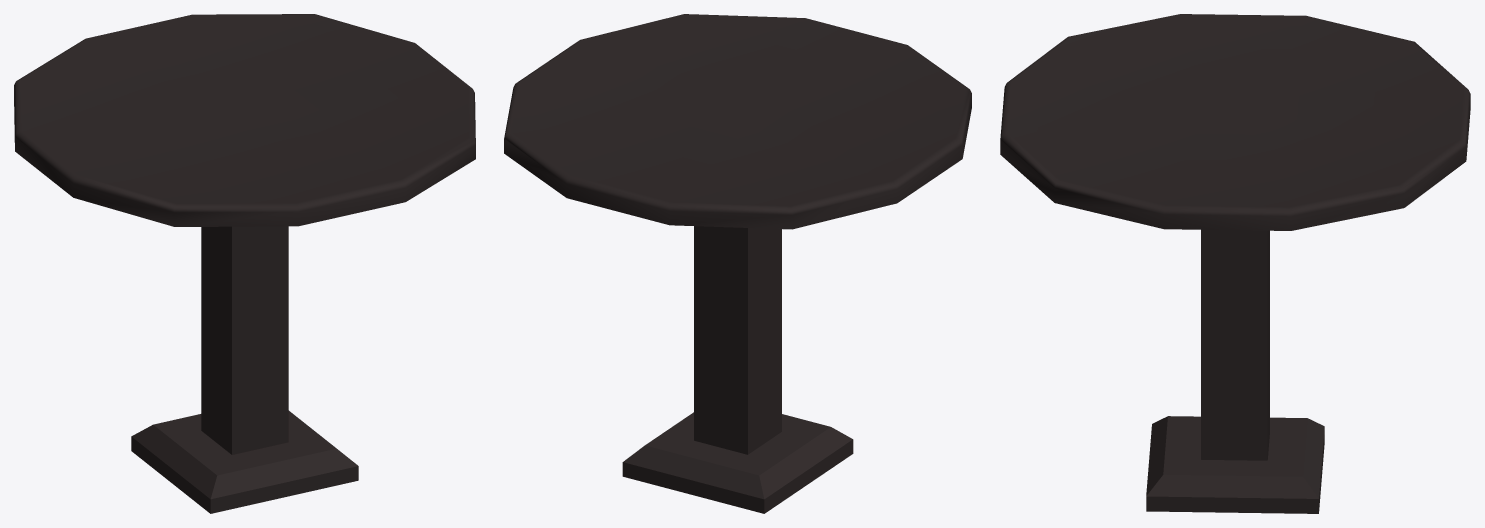
The picture shows the model from 3 angles, left to right: view 1: azimuth 30°, elevation 25°; view 2: azimuth 150°, elevation 25°; view 3: azimuth 270°, elevation 25°; orthographic projection. The views are drawn at different scales.
Visible parts, largest first — view 1: BarTable.001; view 2: BarTable.001; view 3: BarTable.001.
Part boxes in pixels (x1,y1,x2,y2): BarTable.001: (14,14,475,513); BarTable.001: (504,14,971,513); BarTable.001: (1000,14,1470,513).
Size of what is drawn, in the model's own units: 1.28 by 1.1 by 1.28.
Materials: 1 (1 with a texture image).
